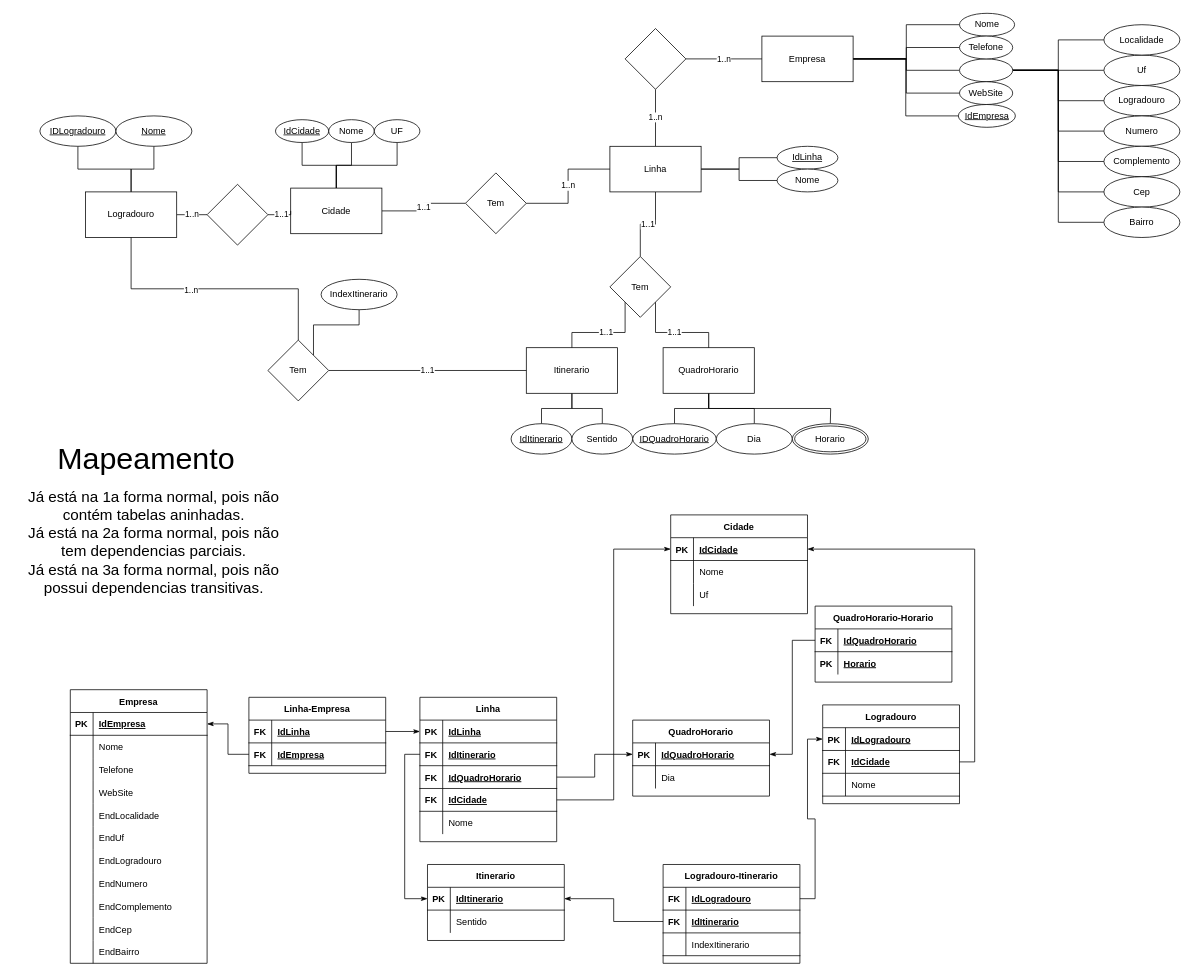
Image size: 1193x977. Some labels were removed from this diagram. The shapes that lost their labels are listed below. From the top down, each one's centre as x and y in pixels, then its label:
At [655,58]: "Atende".
At [986,70]: "Endereco".
At [237,214]: "Pertence".
